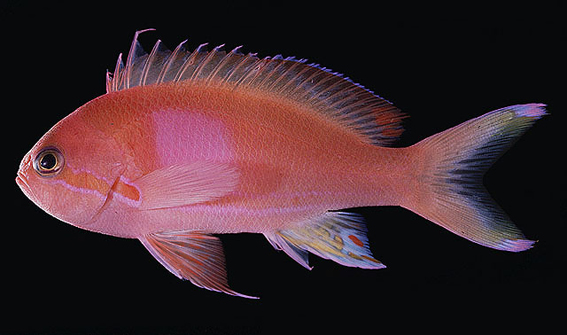fish: (15, 29, 549, 300)
